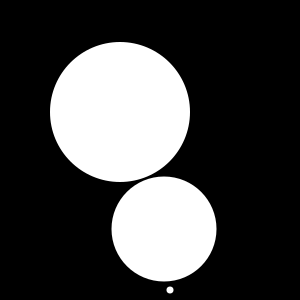circle: (137, 107, 175, 145)
rectangle: (50, 42, 190, 182), (112, 176, 216, 282), (166, 286, 174, 294)
triangle: (135, 68, 152, 85)
